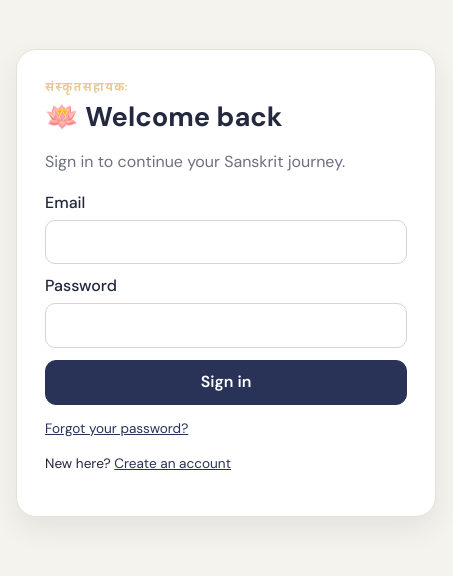
routing and auth › shows the server's generic error on a bad login
Type "a@example.com" into the field labelled "Email" at (226, 242), box [45,220,407,264]
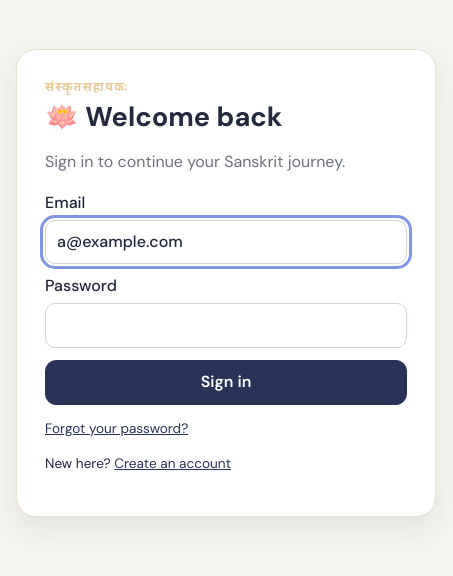
Type "wrong-password" into the password field labelled "Password" at (226, 326), box [45,303,407,348]
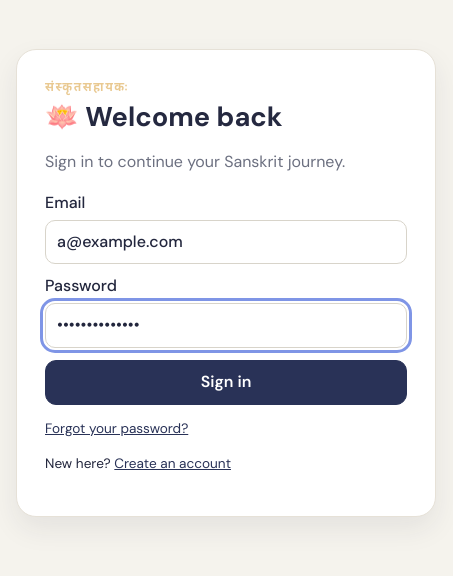
Click the button "Sign in" at (226, 382), box [45,360,407,405]
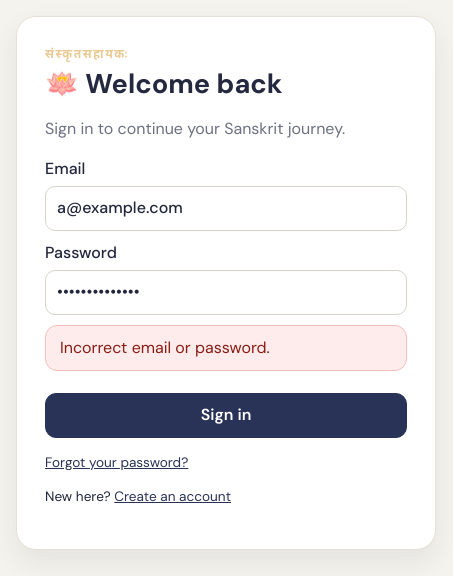
Now the message reads "Incorrect email or password.", box [60,337,270,358]
